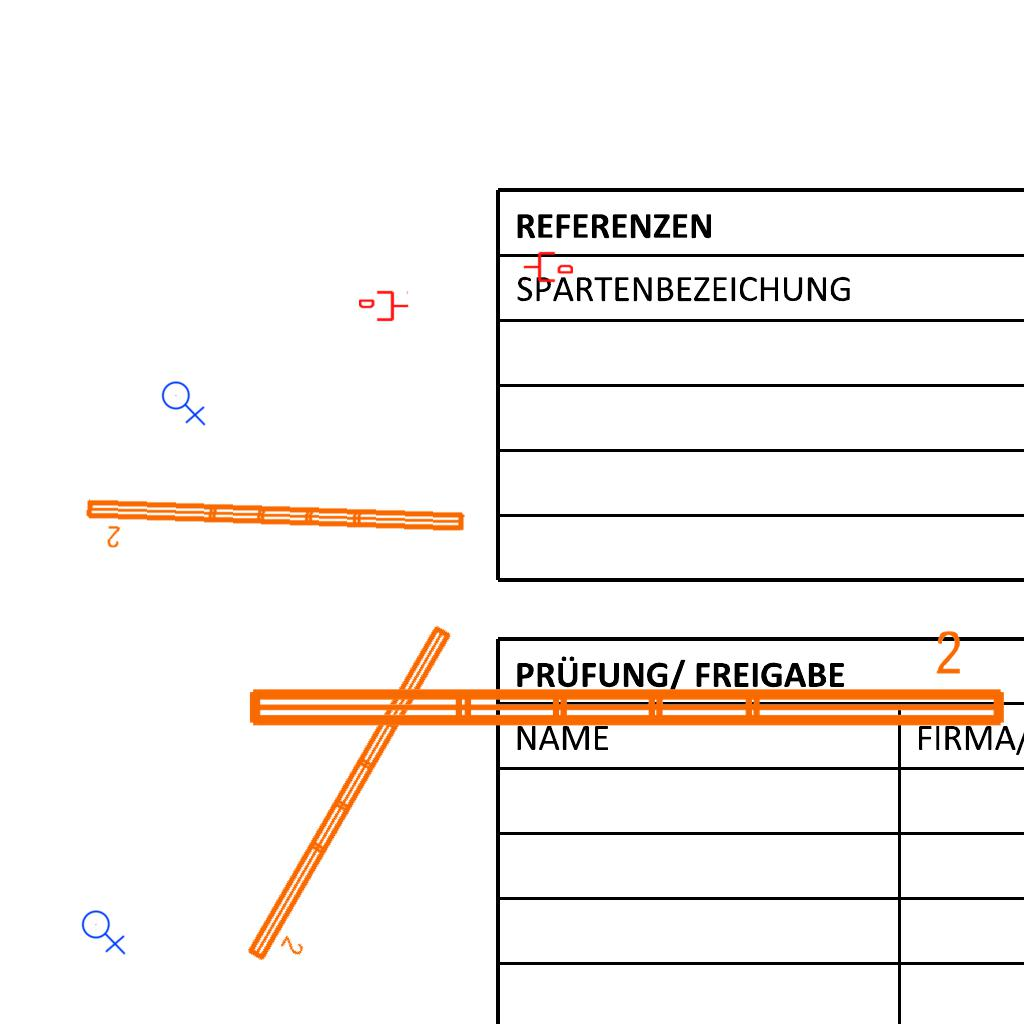Ambulanz_Pendelleuchte_LED: (239, 617, 482, 981), (239, 626, 1013, 738), (81, 493, 470, 563)
Datenanschluss_einfach: (523, 250, 573, 284), (359, 289, 409, 323)
Elektroanschluss_allgemein_230V_Geraeteanschlussdose_230V: (81, 906, 128, 955), (161, 377, 208, 426)
